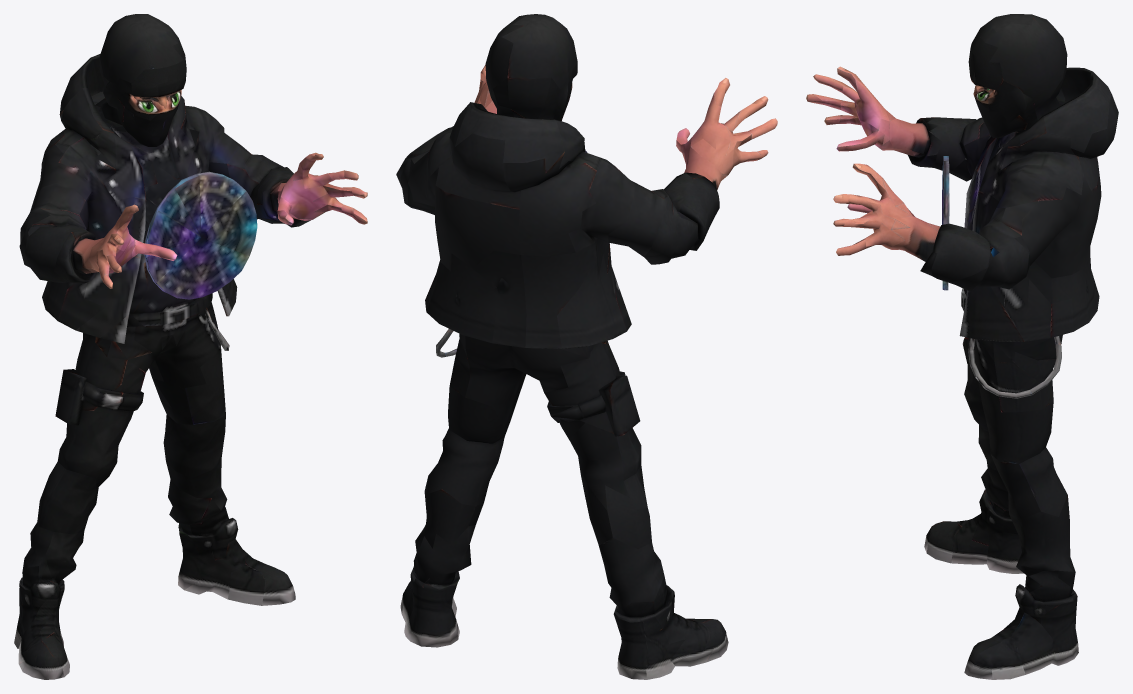
File: moonwalk.glb
3 views of the same model, side by side, from view 1: azimuth 30°, elevation 25°; view 2: azimuth 150°, elevation 25°; view 3: azimuth 270°, elevation 25° (orthographic). The views are drawn at different scales.
Parts seen in each view (by area): view 1: mesh_node; view 2: mesh_node; view 3: mesh_node.
Boxes of the visible parts, x1,y1,x2,y2 form: mesh_node: [14, 14, 367, 679]; mesh_node: [396, 14, 777, 679]; mesh_node: [806, 14, 1118, 679].
Size of the model in its own units: 0.5078 by 1 by 0.4736.
1 material, 1 textured.
